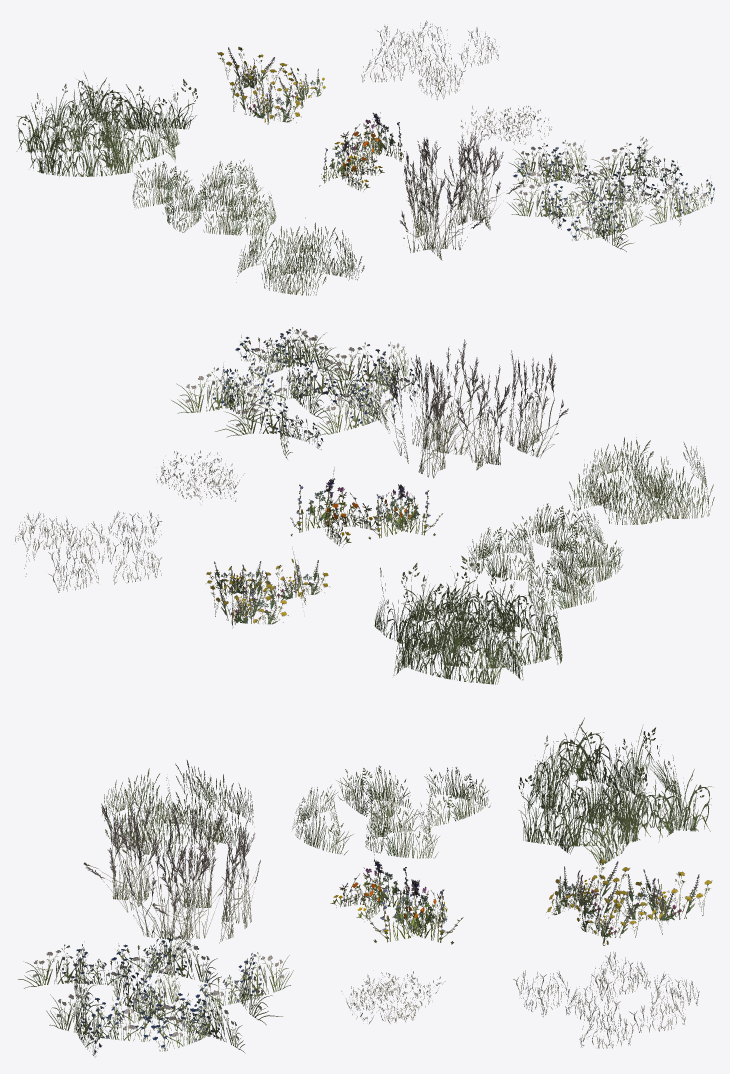
3 renders of one model, top to bottom at view 1: azimuth 30°, elevation 25°; view 2: azimuth 150°, elevation 25°; view 3: azimuth 270°, elevation 25°, orthographic. The views are drawn at different scales.
Visible parts, largest first — view 1: Grass_Reeds_LOD0; view 2: Grass_Reeds_LOD0; view 3: Grass_Reeds_LOD0.
Boxes of the visible parts, x1=… form: Grass_Reeds_LOD0: x1=16, y1=20, x2=714, y2=295; Grass_Reeds_LOD0: x1=15, y1=327, x2=714, y2=684; Grass_Reeds_LOD0: x1=18, y1=717, x2=713, y2=1057.
Bounding box in the file's own units: 12.73 × 2.16 × 13.
2 materials, 2 textured.
